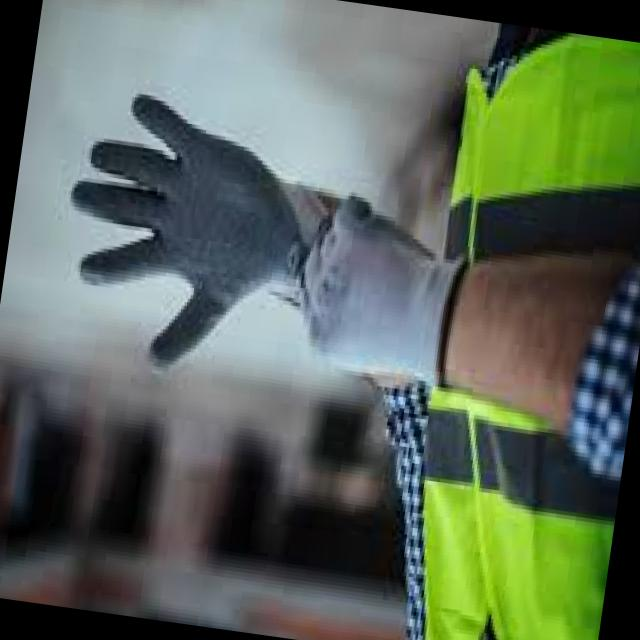gloved: (47, 85, 331, 392), (279, 188, 472, 394)
